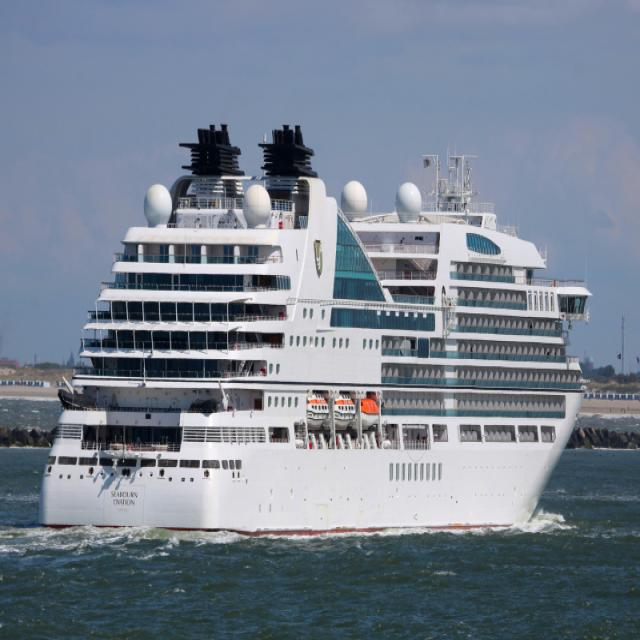cruises: (38, 98, 594, 550)
